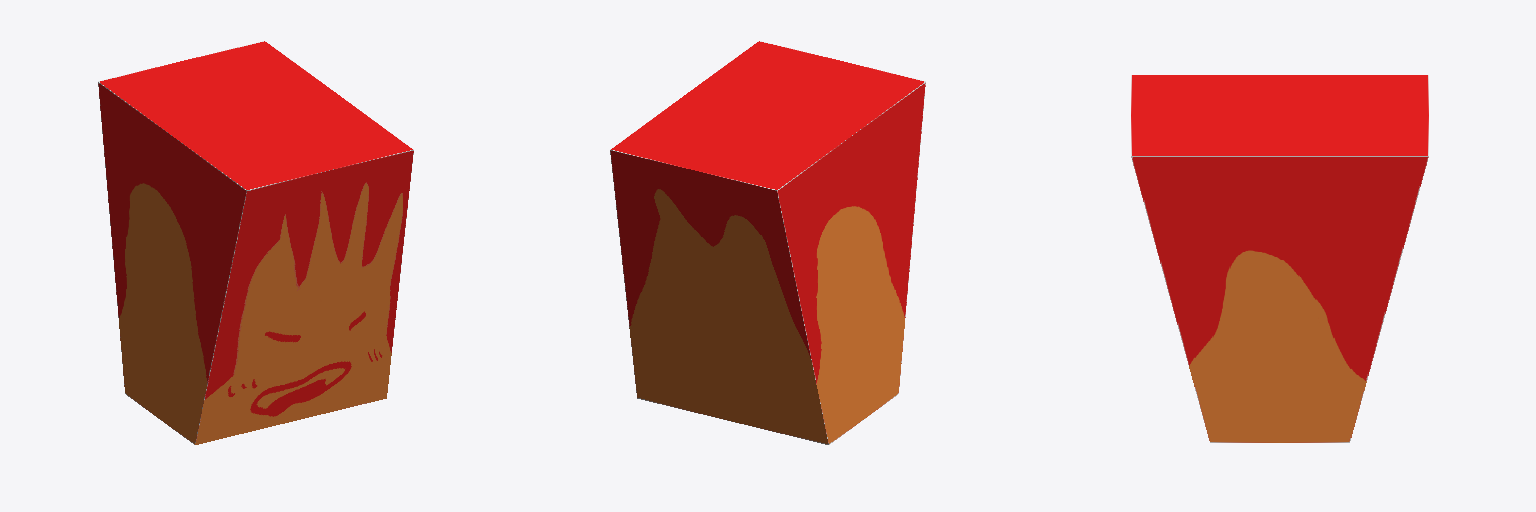
3 views of the same model, side by side, from view 1: azimuth 30°, elevation 25°; view 2: azimuth 150°, elevation 25°; view 3: azimuth 270°, elevation 25° (orthographic).
Visible parts, largest first — view 1: 立方体; view 2: 立方体; view 3: 立方体.
Part boxes in pixels (left/top/right/bottom): 立方体: left=98, top=41, right=413, bottom=444; 立方体: left=610, top=41, right=925, bottom=444; 立方体: left=1131, top=75, right=1428, bottom=442.
Size of the model in its own units: 1.11 by 1.55 by 1.49.
1 materials, 1 textured.